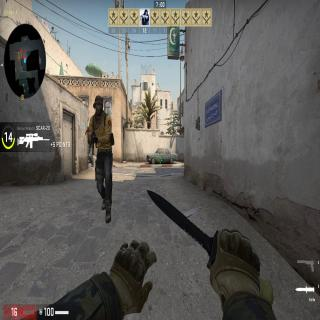T-Body: (87, 94, 114, 223)
T-Head: (92, 95, 106, 116)
